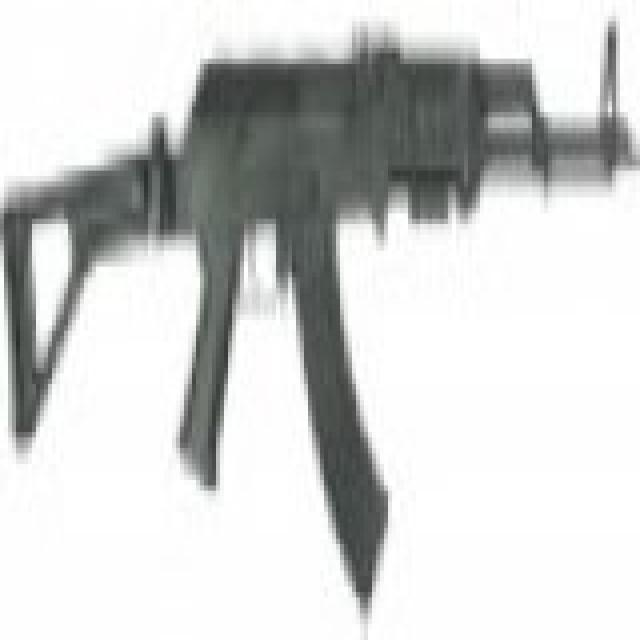Gun: (7, 12, 639, 607)
